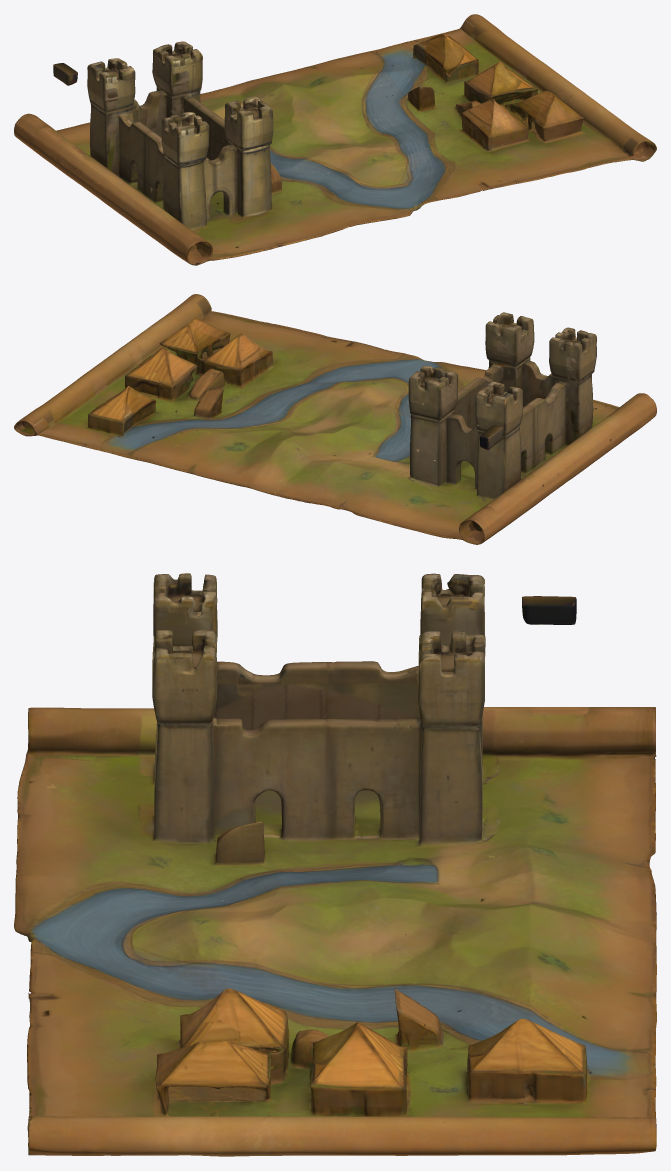
File: Medieval_Map_Scene_0725000119_texture.fbx
3 views of the same model, one above another, from view 1: azimuth 30°, elevation 25°; view 2: azimuth 150°, elevation 25°; view 3: azimuth 270°, elevation 25° (orthographic). The views are drawn at different scales.
Visible parts, largest first — view 1: input; view 2: input; view 3: input.
Part boxes in pixels (box(x1,y1,x2,y2)): input: box(14, 14, 656, 265); input: box(14, 294, 656, 544); input: box(14, 573, 656, 1156).
Bounding box in the file's own units: 200 × 44.95 × 130.
Materials: 1 (1 with a texture image).
